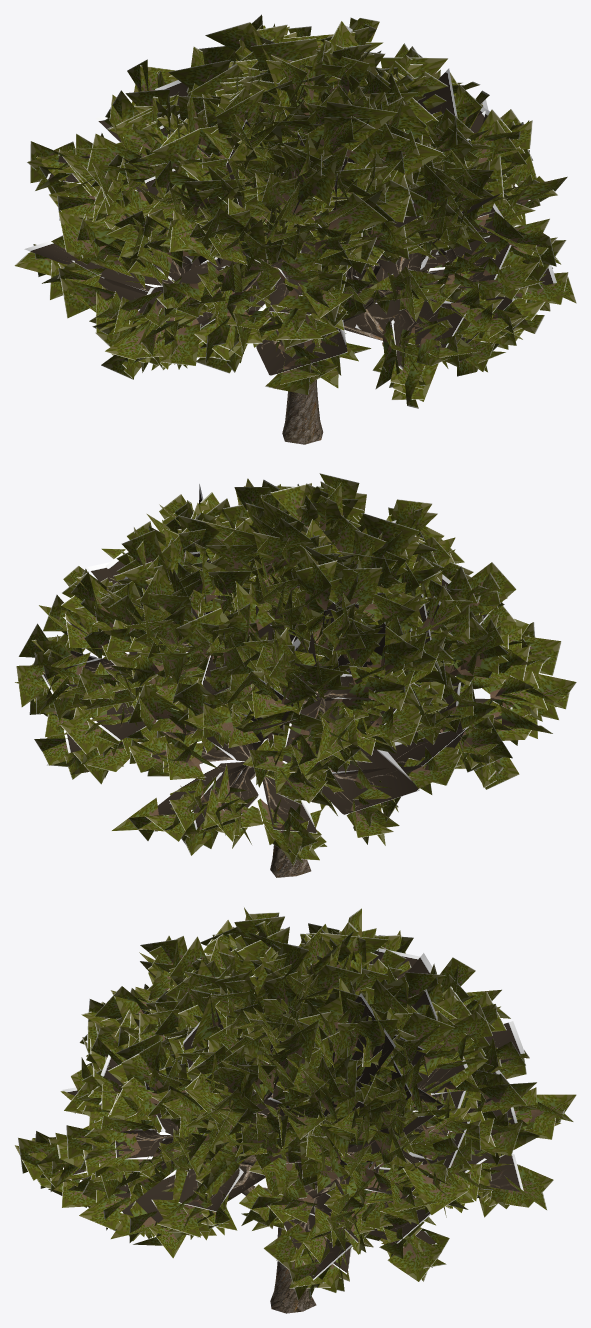
Rendered from tree5.obj.
3 renders of one model, top to bottom at view 1: azimuth 30°, elevation 25°; view 2: azimuth 150°, elevation 25°; view 3: azimuth 270°, elevation 25°, orthographic. The views are drawn at different scales.
Parts seen in each view (by area): view 1: Leaf_6, Bark_9; view 2: Leaf_6, Bark_9; view 3: Leaf_6, Bark_9.
Boxes of the visible parts, bbox=[...] form: Leaf_6: bbox=[14, 14, 576, 408]; Bark_9: bbox=[255, 218, 436, 444]; Leaf_6: bbox=[15, 473, 576, 866]; Bark_9: bbox=[245, 666, 462, 877]; Leaf_6: bbox=[14, 907, 576, 1300]; Bark_9: bbox=[163, 1090, 335, 1313].
Bounding box in the file's own units: 84.55 × 64.75 × 87.51.
3 materials, 3 textured.
